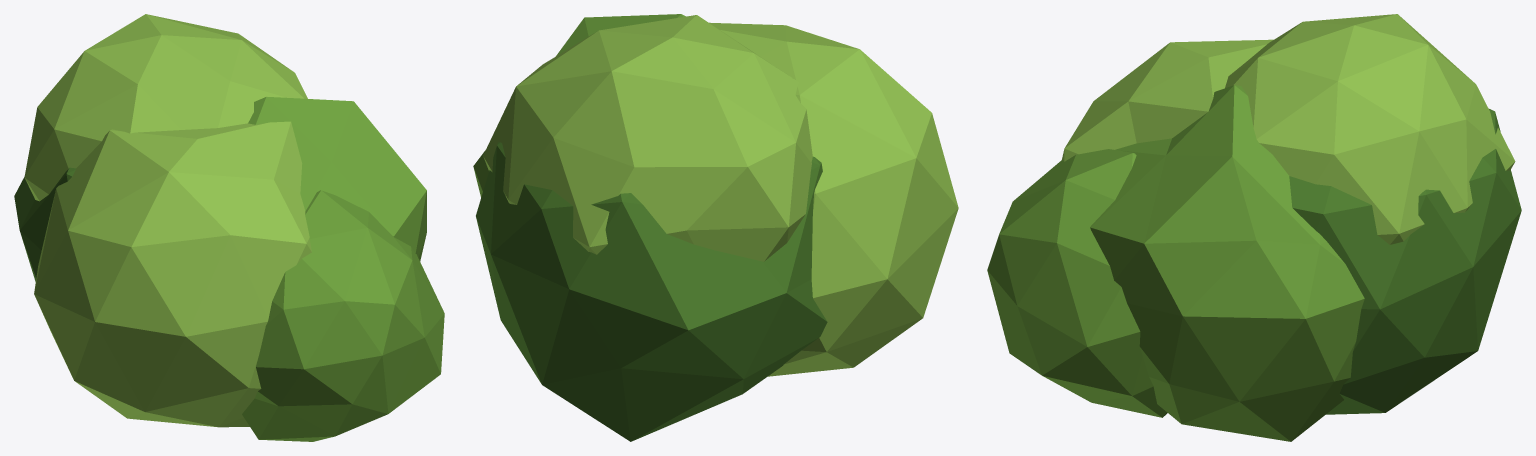
File: SM_Bush_Green.glb
The picture shows the model from 3 angles, left to right: view 1: azimuth 30°, elevation 25°; view 2: azimuth 150°, elevation 25°; view 3: azimuth 270°, elevation 25°; orthographic projection. The views are drawn at different scales.
Visible parts, largest first — view 1: SM_Bush_Green; view 2: SM_Bush_Green; view 3: SM_Bush_Green.
Part boxes in pixels (<box>): SM_Bush_Green: <box>14,14,444,441</box>; SM_Bush_Green: <box>473,14,958,441</box>; SM_Bush_Green: <box>987,14,1521,441</box>.
Bounding box in the file's own units: 0.8333 × 0.7576 × 1.01.
1 material, 1 textured.
